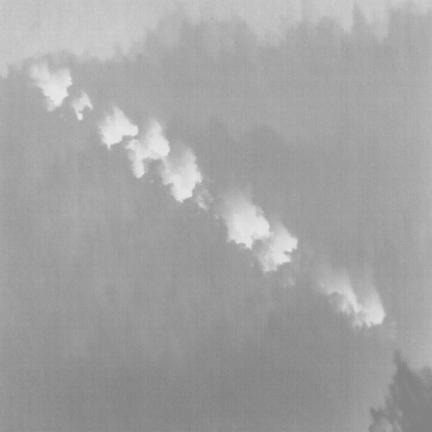flukeprints: (320, 276, 385, 327), (217, 194, 269, 248), (126, 120, 169, 178), (160, 144, 202, 202), (29, 60, 72, 111), (30, 62, 72, 111), (256, 223, 297, 271), (98, 104, 138, 149), (71, 91, 92, 120)
